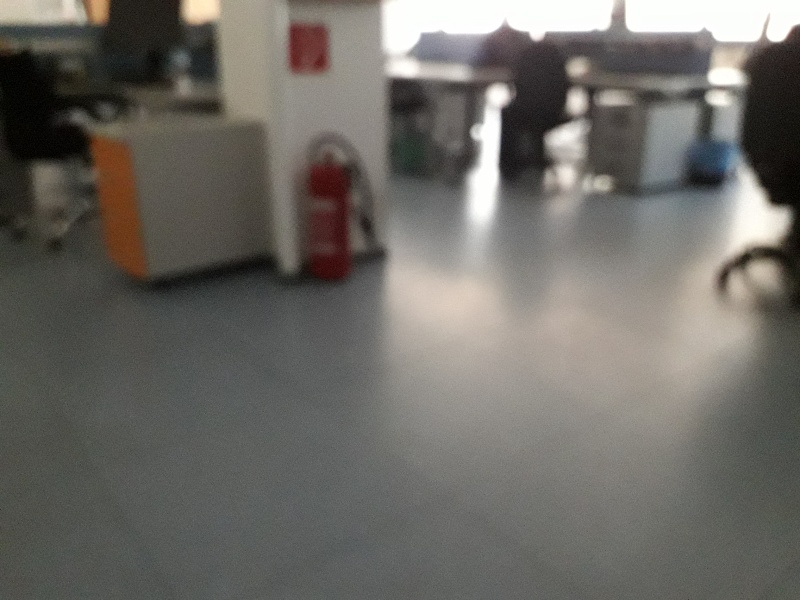vataparat: (301, 133, 376, 281)
